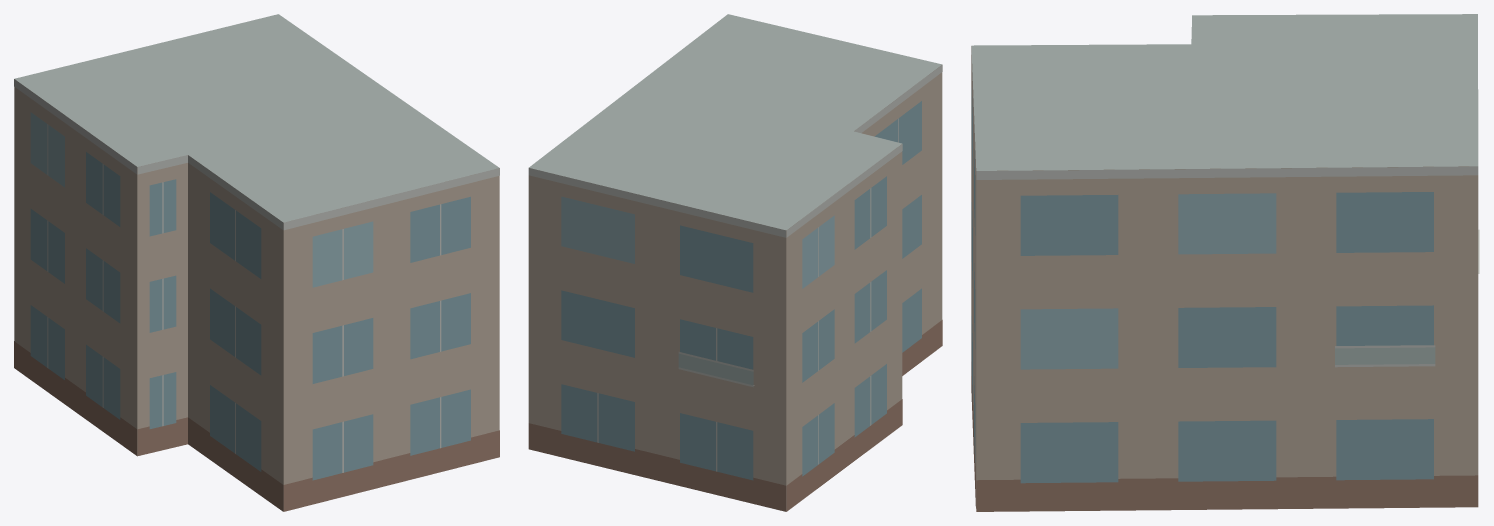
The model's file is survey-upis-32687662.glb.
3 views of the same model, side by side, from view 1: azimuth 30°, elevation 25°; view 2: azimuth 150°, elevation 25°; view 3: azimuth 270°, elevation 25° (orthographic). The views are drawn at different scales.
Parts seen in each view (by area): view 1: survey-upis-32687662.tmp; view 2: survey-upis-32687662.tmp; view 3: survey-upis-32687662.tmp.
Boxes of the visible parts, <box> form: survey-upis-32687662.tmp: <box>14,14,499,511</box>; survey-upis-32687662.tmp: <box>528,14,942,511</box>; survey-upis-32687662.tmp: <box>971,14,1479,511</box>.
Bounding box in the file's own units: 9.05 × 9.15 × 12.37.
